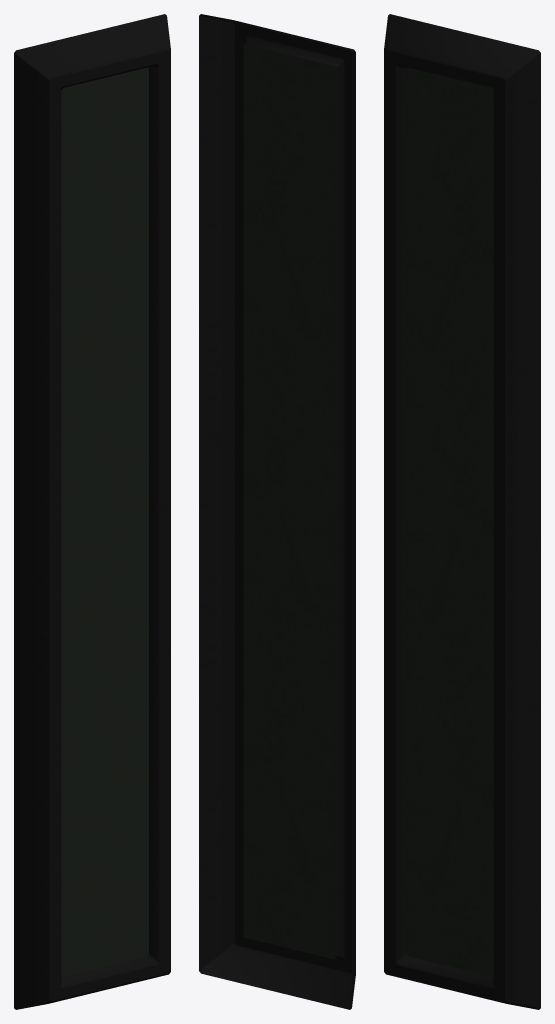
The model's file is cP_WallLight03.dae.
The picture shows the model from 3 angles, left to right: view 1: azimuth 30°, elevation 25°; view 2: azimuth 150°, elevation 25°; view 3: azimuth 330°, elevation 25°; orthographic projection.
Parts seen in each view (by area): view 1: cP_WallLight03.001; view 2: cP_WallLight03.001; view 3: cP_WallLight03.001.
Part boxes in pixels (<box>): cP_WallLight03.001: <box>14,14,170,1009</box>; cP_WallLight03.001: <box>199,14,355,1009</box>; cP_WallLight03.001: <box>384,14,540,1009</box>.
Bounding box in the file's own units: 0.08 × 0.0173 × 0.48.
